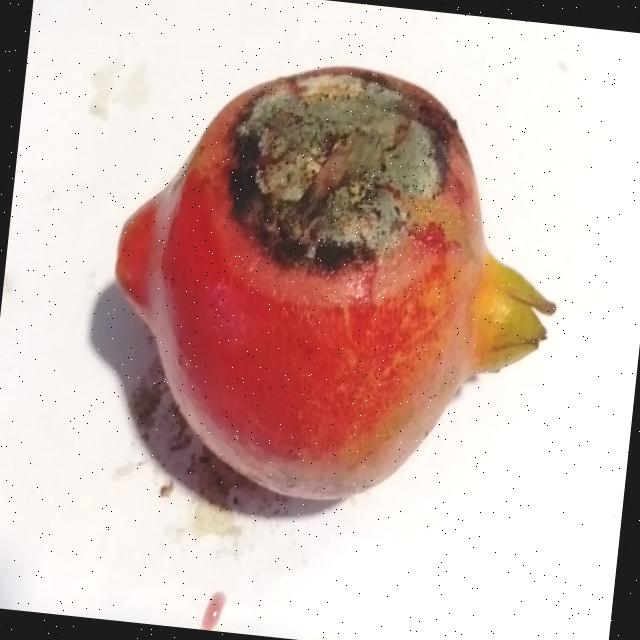Rotten: (77, 31, 580, 534)
